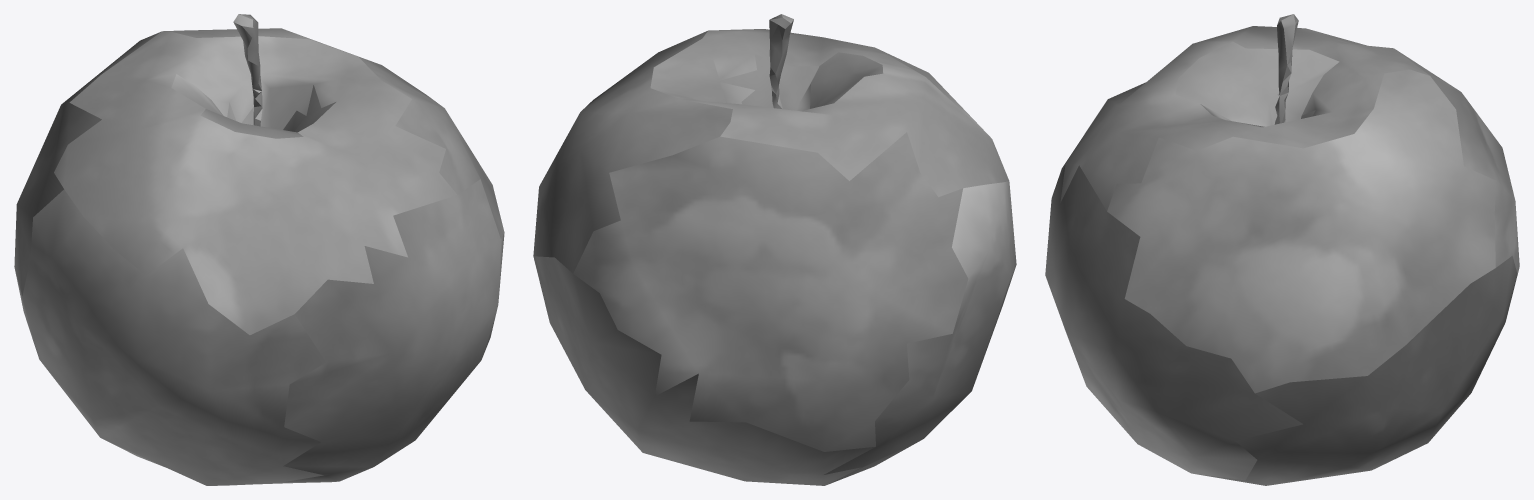
File: SM_Apple_02d.fbx
3 views of the same model, side by side, from view 1: azimuth 30°, elevation 25°; view 2: azimuth 150°, elevation 25°; view 3: azimuth 270°, elevation 25° (orthographic). The views are drawn at different scales.
Visible parts, largest first — view 1: SM_Apple_02d_LOD0; view 2: SM_Apple_02d_LOD0; view 3: SM_Apple_02d_LOD0.
Part boxes in pixels (box(x1,y1,x2,y2)): SM_Apple_02d_LOD0: box(14, 14, 504, 485); SM_Apple_02d_LOD0: box(533, 14, 1016, 485); SM_Apple_02d_LOD0: box(1045, 14, 1519, 485).
Size of the model in its own units: 10.53 by 10.6 by 10.49.
